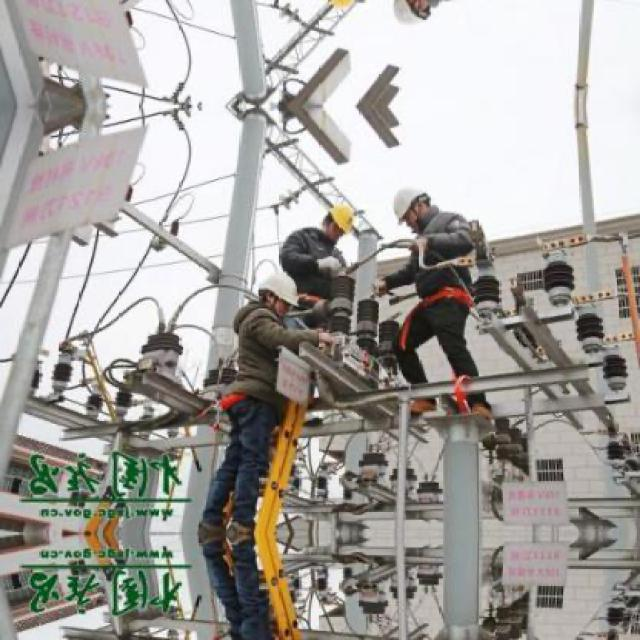con casco: (394, 149, 458, 255), (312, 172, 362, 270), (258, 253, 316, 315)
